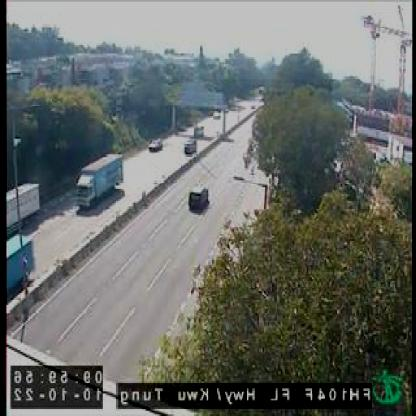Car: (188, 184, 210, 212), (184, 138, 198, 156), (148, 139, 162, 153)
Truck: (72, 151, 126, 208)
